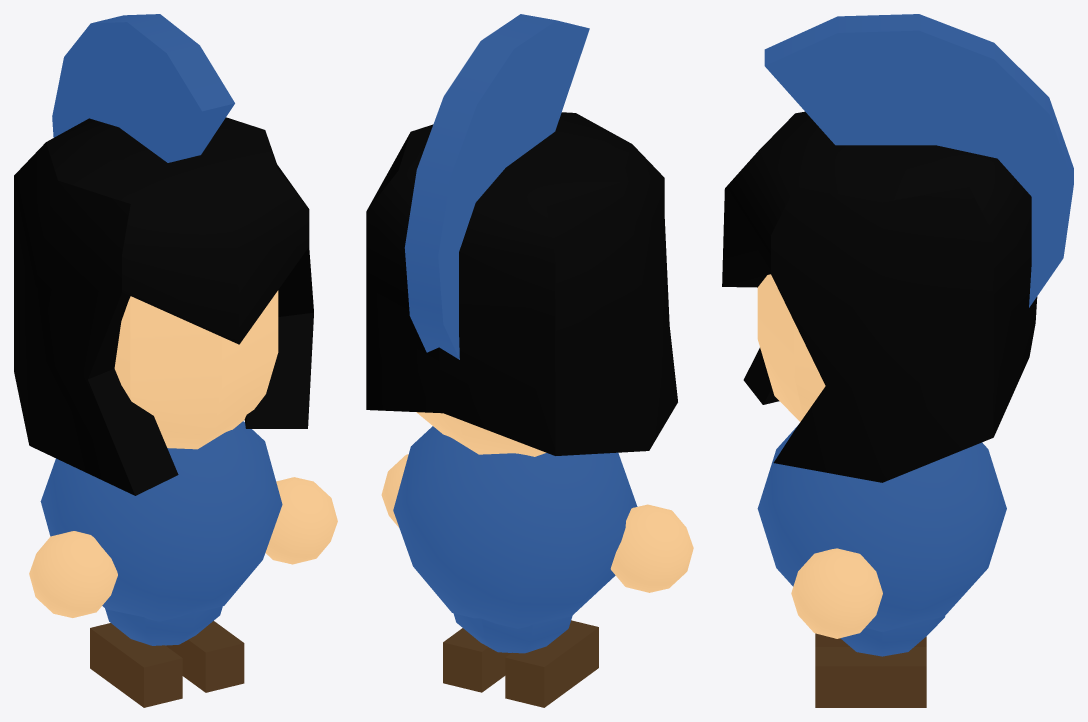
The model's file is player.fbx.
3 views of the same model, side by side, from view 1: azimuth 30°, elevation 25°; view 2: azimuth 150°, elevation 25°; view 3: azimuth 270°, elevation 25° (orthographic). The views are drawn at different scales.
Parts seen in each view (by area): view 1: Cylinder_2, Sphere, Cylinder, Capsule_1, Sphere_1, Cube, Capsule; view 2: Cylinder_2, Sphere, Cylinder, Cube, Sphere_1, Capsule, Capsule_1; view 3: Cylinder_2, Cylinder, Sphere, Cube, Sphere_1, Capsule_1, Capsule.
Boxes of the visible parts, <box> form: Cylinder_2: <box>14,117,313,495</box>; Sphere: <box>40,421,282,621</box>; Cylinder: <box>52,14,234,162</box>; Capsule_1: <box>114,290,278,449</box>; Sphere_1: <box>29,477,337,617</box>; Cube: <box>90,621,244,707</box>; Capsule: <box>105,606,222,645</box>; Cylinder_2: <box>366,112,677,455</box>; Sphere: <box>393,426,637,628</box>; Cylinder: <box>404,14,589,359</box>; Cube: <box>443,620,598,707</box>; Sphere_1: <box>381,454,693,592</box>; Capsule: <box>453,613,572,653</box>; Capsule_1: <box>416,412,546,456</box>; Cylinder_2: <box>722,111,1037,482</box>; Cylinder: <box>764,14,1073,307</box>; Sphere: <box>757,425,1006,631</box>; Cube: <box>815,633,926,707</box>; Sphere_1: <box>791,548,882,638</box>; Capsule_1: <box>757,274,825,421</box>; Capsule: <box>840,616,945,656</box>.
Bounding box in the file's own units: 53.86 × 111 × 53.62.
